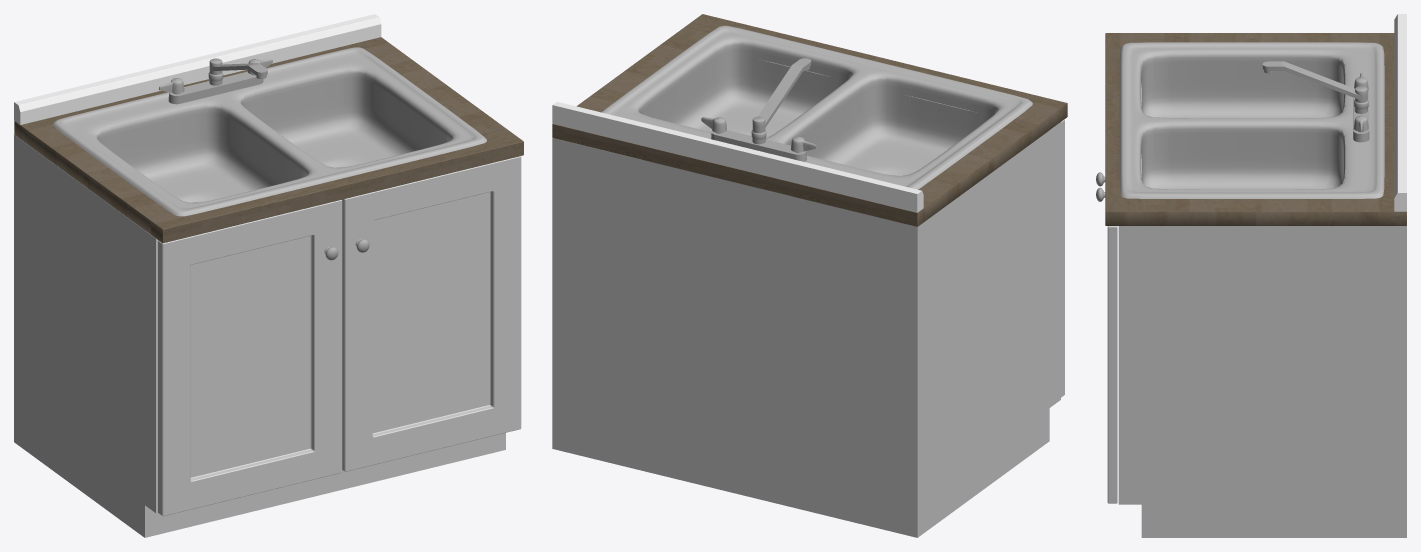
File: blendswap-cc-by-kitchenSink.glb
3 views of the same model, side by side, from view 1: azimuth 30°, elevation 25°; view 2: azimuth 150°, elevation 25°; view 3: azimuth 270°, elevation 25° (orthographic).
Visible parts, largest first — view 1: Door-and-Drawers-Right.002_Cube.038, Base-unit-Box-Right.002_Cube.036, Double_sink, Worktop-Right.002_Cube.037, Plane.001_Plane.017, Kitchen_faucet, Kitchen_spigot; view 2: Base-unit-Box-Right.002_Cube.036, Double_sink, Worktop-Right.002_Cube.037, Plane.001_Plane.017, Kitchen_spigot, Kitchen_faucet, Door-and-Drawers-Right.002_Cube.038; view 3: Base-unit-Box-Right.002_Cube.036, Double_sink, Worktop-Right.002_Cube.037, Door-and-Drawers-Right.002_Cube.038, Plane.001_Plane.017, Kitchen_spigot, Kitchen_faucet.
Boxes of the visible parts, box(x1,y1,x2,y2) form: Door-and-Drawers-Right.002_Cube.038: box(158, 156, 521, 516); Base-unit-Box-Right.002_Cube.036: box(14, 134, 505, 537); Double_sink: box(52, 47, 486, 216); Worktop-Right.002_Cube.037: box(14, 37, 523, 243); Plane.001_Plane.017: box(14, 14, 381, 124); Kitchen_faucet: box(168, 71, 263, 104); Kitchen_spigot: box(208, 58, 267, 85); Base-unit-Box-Right.002_Cube.036: box(552, 61, 1060, 537); Double_sink: box(601, 25, 1032, 224); Worktop-Right.002_Cube.037: box(552, 14, 1067, 226); Plane.001_Plane.017: box(552, 101, 923, 212); Kitchen_spigot: box(751, 58, 811, 144); Kitchen_faucet: box(711, 130, 806, 161); Door-and-Drawers-Right.002_Cube.038: box(1061, 119, 1064, 397); Base-unit-Box-Right.002_Cube.036: box(1118, 83, 1406, 537); Double_sink: box(1119, 42, 1384, 198); Worktop-Right.002_Cube.037: box(1105, 33, 1406, 225); Door-and-Drawers-Right.002_Cube.038: box(1107, 226, 1117, 503); Plane.001_Plane.017: box(1394, 14, 1406, 211); Kitchen_spigot: box(1262, 61, 1368, 113); Kitchen_faucet: box(1353, 91, 1369, 142).
Size of the model in its own units: 97.59 by 97.63 by 71.69.
7 materials, 1 textured.
